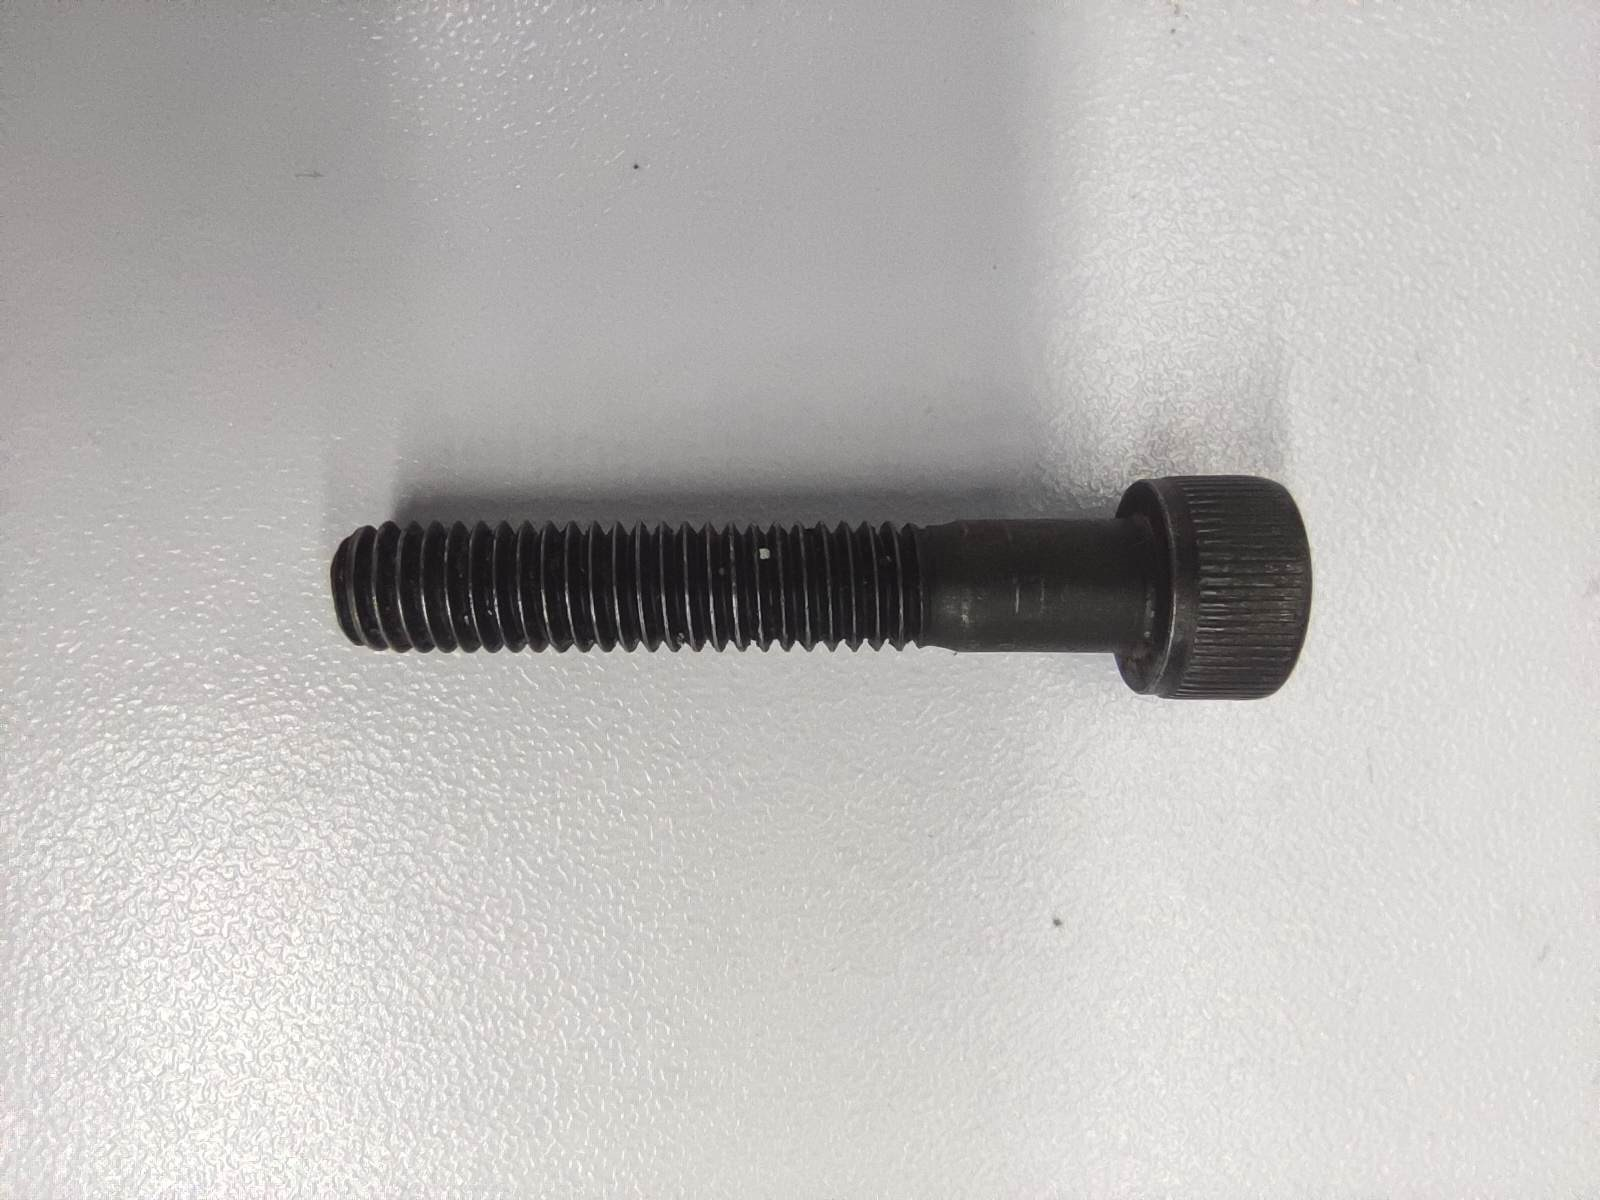螺钉: (328, 471, 1314, 700)
